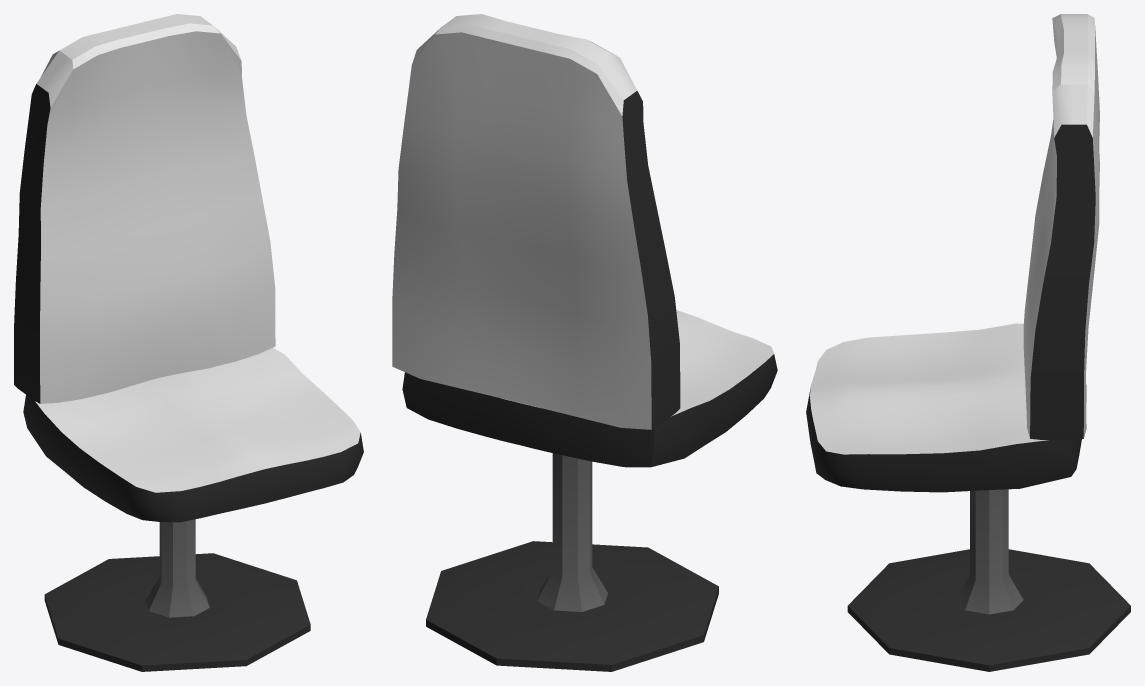
File: chair.fbx
3 views of the same model, side by side, from view 1: azimuth 30°, elevation 25°; view 2: azimuth 150°, elevation 25°; view 3: azimuth 270°, elevation 25° (orthographic). The views are drawn at different scales.
Parts seen in each view (by area): view 1: Cube.002; view 2: Cube.002; view 3: Cube.002.
Part boxes in pixels (bbox=[...]): Cube.002: bbox=[14, 14, 363, 671]; Cube.002: bbox=[392, 14, 777, 671]; Cube.002: bbox=[806, 14, 1130, 671].
Size of the model in its own units: 205 by 451 by 233.
